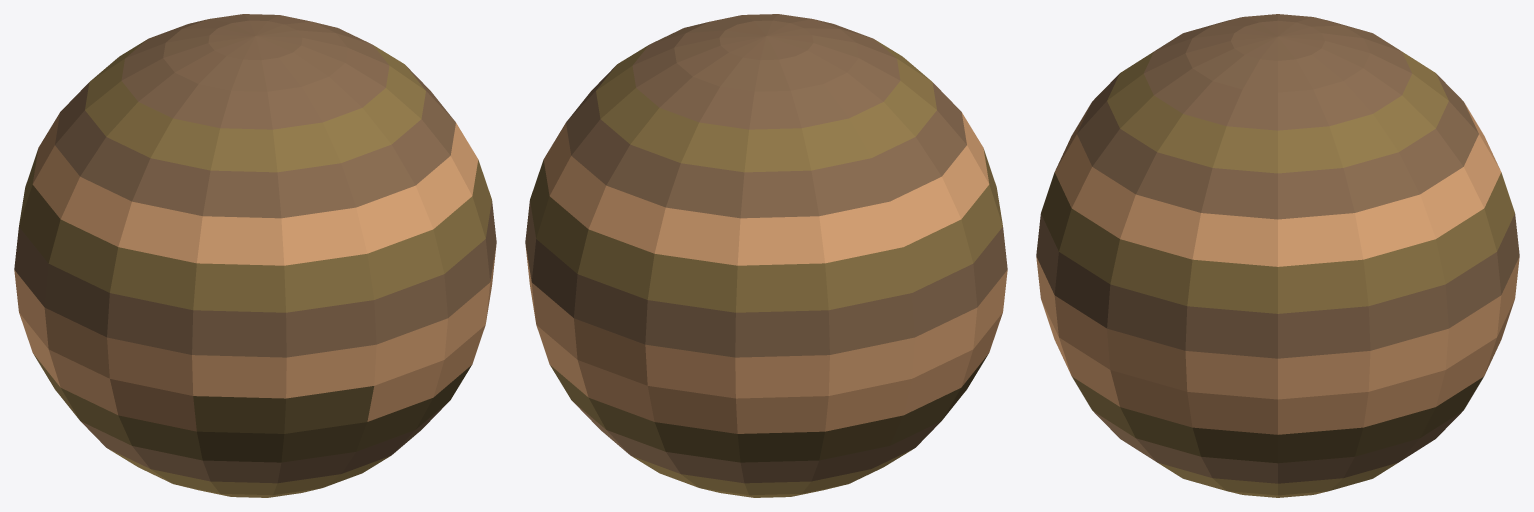
The model's file is upiter.fbx.
3 renders of one model, left to right at view 1: azimuth 30°, elevation 25°; view 2: azimuth 150°, elevation 25°; view 3: azimuth 270°, elevation 25°, orthographic.
Parts seen in each view (by area): view 1: Cube; view 2: Cube; view 3: Cube.
Boxes of the visible parts, x1=… form: Cube: x1=14, y1=14, x2=496, y2=497; Cube: x1=525, y1=14, x2=1007, y2=497; Cube: x1=1036, y1=14, x2=1519, y2=497.
Bounding box in the file's own units: 791 × 788 × 787.
